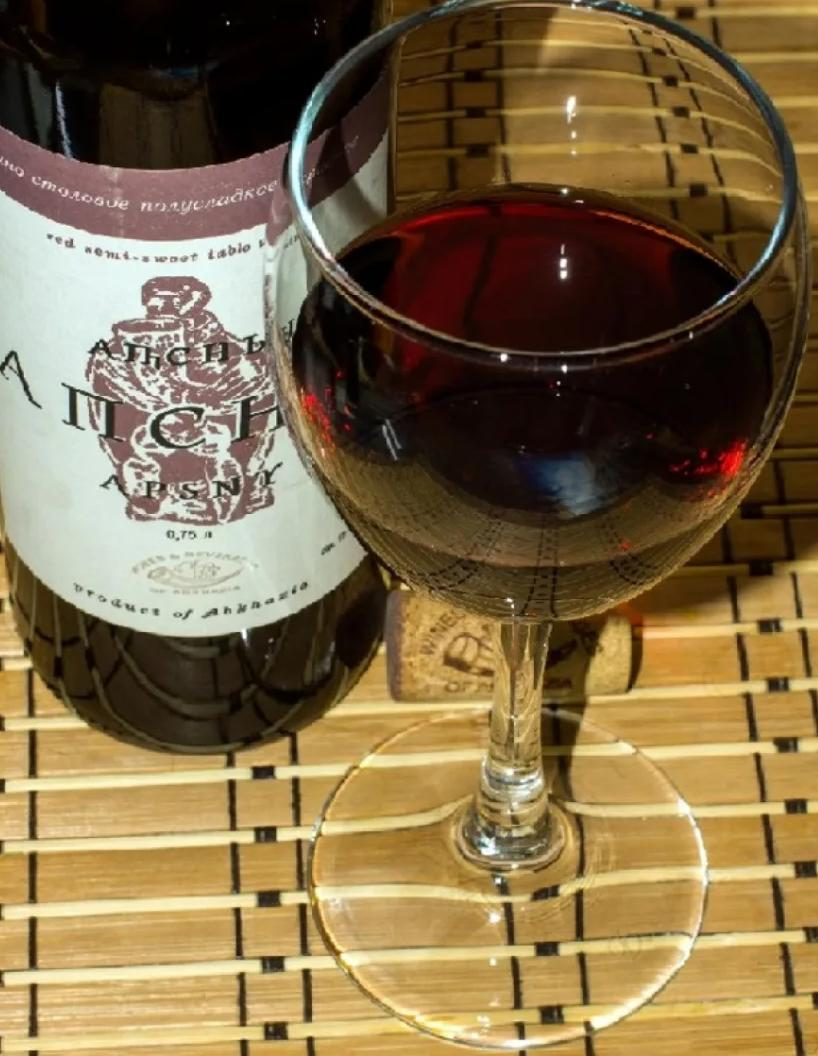wine bottle: (1, 0, 402, 759)
wine label: (4, 69, 397, 637)
